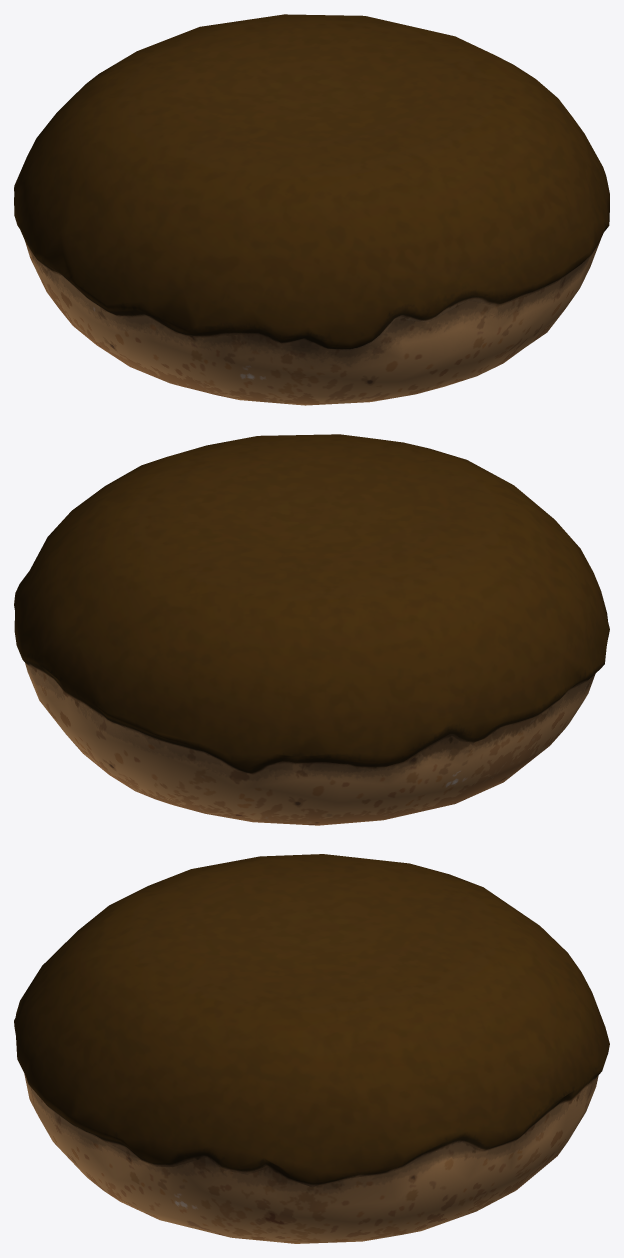
Rendered from s_doughnut_choc.fbx.
The picture shows the model from 3 angles, top to bottom: view 1: azimuth 30°, elevation 25°; view 2: azimuth 150°, elevation 25°; view 3: azimuth 270°, elevation 25°; orthographic projection.
Visible parts, largest first — view 1: s_doughnut_choc; view 2: s_doughnut_choc; view 3: s_doughnut_choc.
Boxes of the visible parts, bbox=[...] form: s_doughnut_choc: bbox=[14, 14, 609, 405]; s_doughnut_choc: bbox=[14, 434, 609, 825]; s_doughnut_choc: bbox=[14, 854, 609, 1243].
Size of the model in its own units: 34.81 by 15.36 by 34.92.
